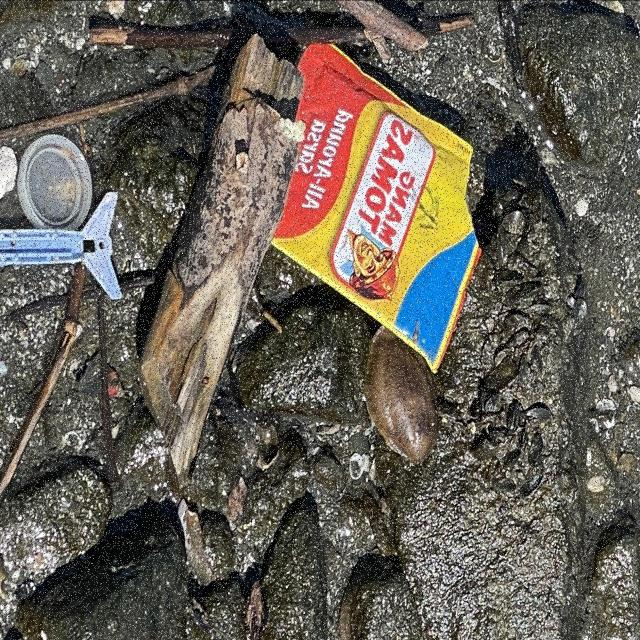plastic_waste: (272, 41, 483, 373), (19, 133, 95, 230)
